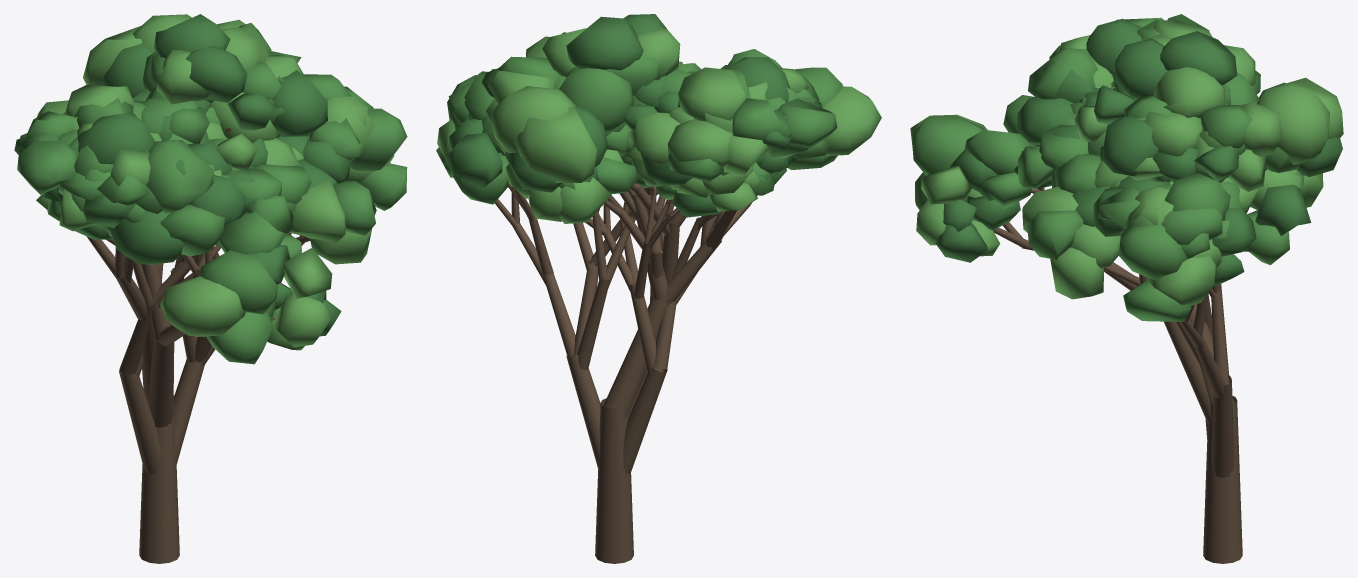
Rendered from tree_round.glb.
3 renders of one model, left to right at view 1: azimuth 30°, elevation 25°; view 2: azimuth 150°, elevation 25°; view 3: azimuth 270°, elevation 25°, orthographic. The views are drawn at different scales.
Visible parts, largest first — view 1: tree_round_Canopy0, tree_round_Canopy1, tree_round_Canopy2, tree_round_Branches; view 2: tree_round_Canopy1, tree_round_Branches, tree_round_Canopy0, tree_round_Canopy2; view 3: tree_round_Canopy0, tree_round_Canopy1, tree_round_Canopy2, tree_round_Branches.
Part boxes in pixels (x1,y1,x2,y2): tree_round_Canopy0: (17, 23, 407, 364); tree_round_Canopy1: (20, 14, 394, 350); tree_round_Canopy2: (14, 14, 351, 336); tree_round_Branches: (86, 128, 310, 563); tree_round_Canopy1: (437, 28, 881, 223); tree_round_Branches: (494, 183, 757, 563); tree_round_Canopy0: (436, 49, 842, 204); tree_round_Canopy2: (445, 14, 822, 217); tree_round_Canopy0: (911, 14, 1302, 321); tree_round_Canopy1: (910, 20, 1343, 305); tree_round_Canopy2: (935, 18, 1342, 285); tree_round_Branches: (993, 187, 1242, 563).
Bounding box in the file's own units: 2.96 × 3.88 × 2.9.
